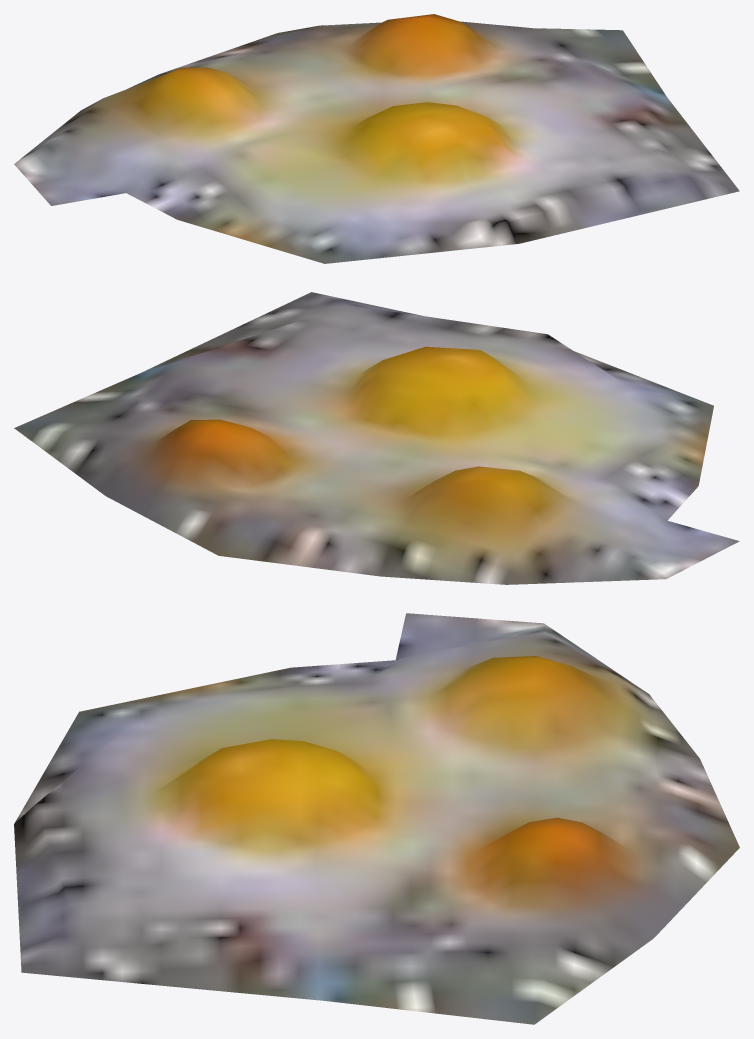
The model's file is SM_FriedEggsSet_9fb30e.glb.
The picture shows the model from 3 angles, top to bottom: view 1: azimuth 30°, elevation 25°; view 2: azimuth 150°, elevation 25°; view 3: azimuth 270°, elevation 25°; orthographic projection. The views are drawn at different scales.
Bounding box in the file's own units: 0.3354 × 0.0323 × 0.2594.
Materials: 1 (1 with a texture image).
